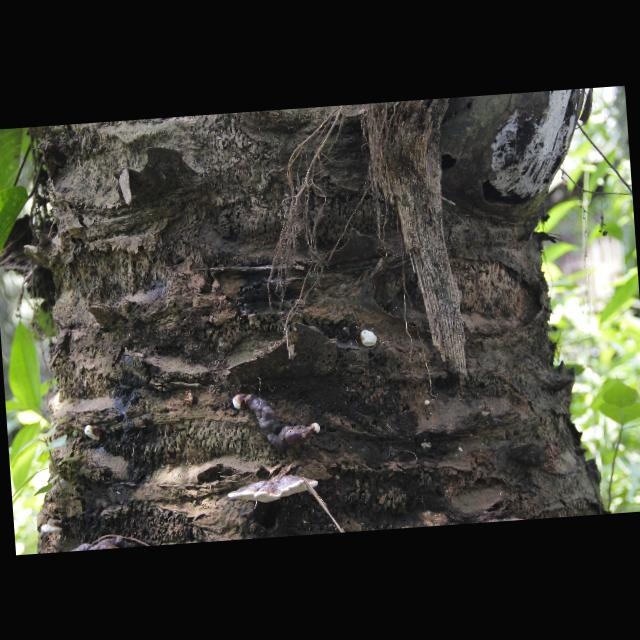ganoderma: (246, 390, 312, 453), (226, 473, 321, 507), (71, 535, 138, 553), (41, 520, 73, 537)
primordium: (85, 425, 107, 444), (360, 329, 380, 348), (232, 393, 249, 411), (310, 422, 322, 437), (423, 399, 432, 408)
